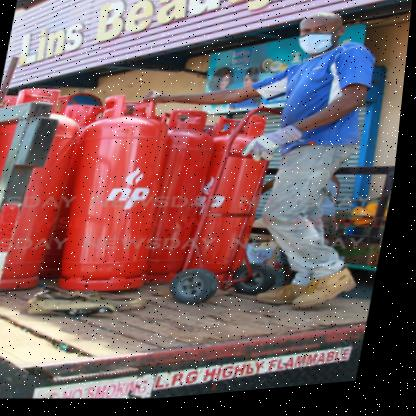gas-tank: (53, 82, 195, 305), (0, 71, 103, 305), (174, 102, 291, 294), (128, 97, 231, 294)
